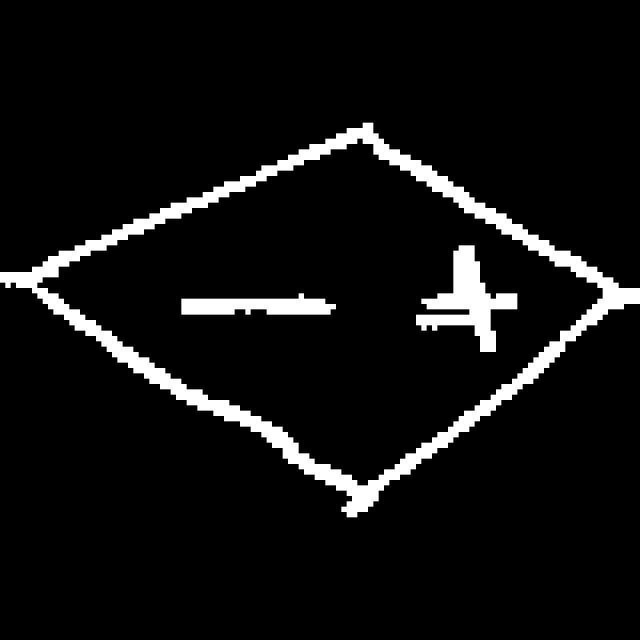dependant_voltage: (18, 122, 619, 506)
